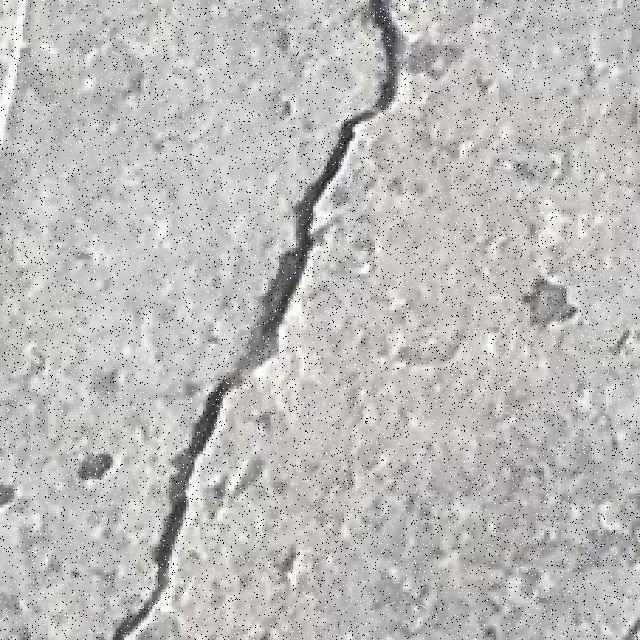crack: (109, 0, 401, 638)
